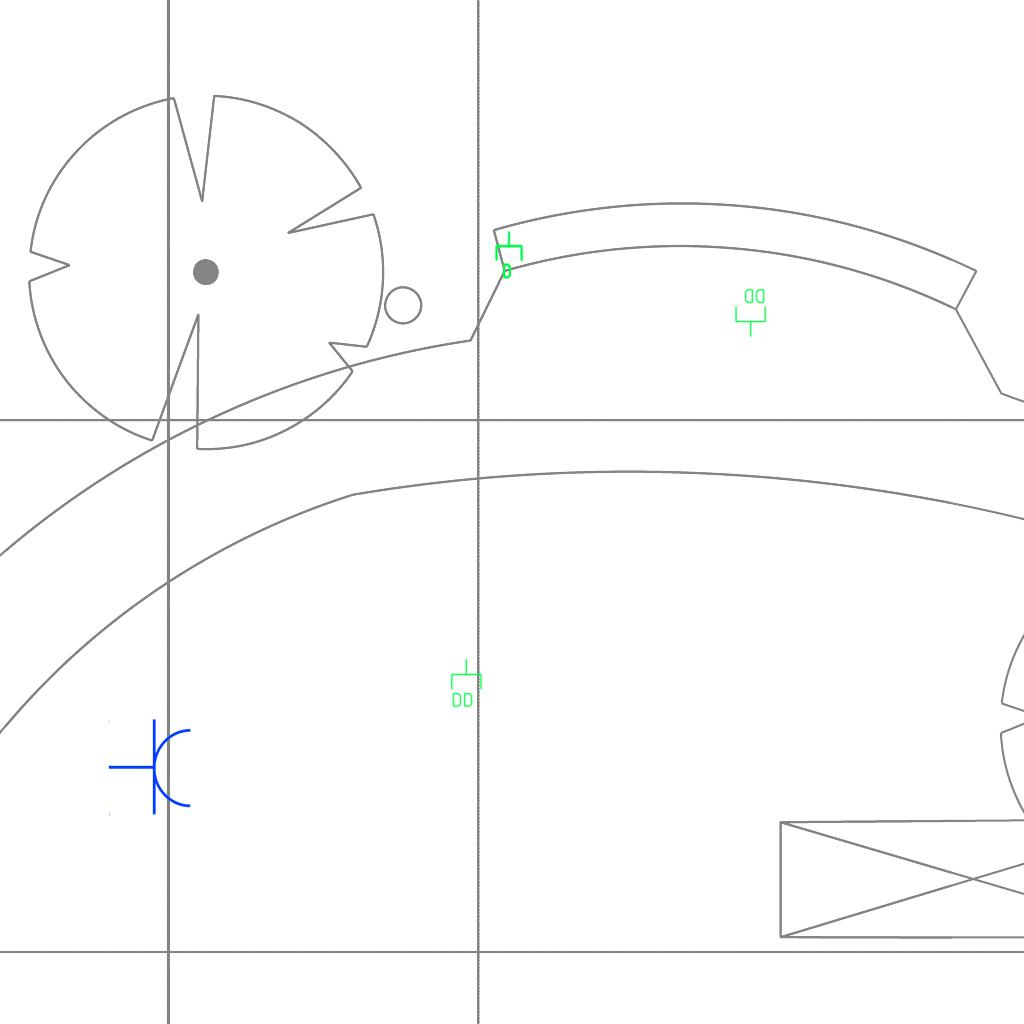Datenanschluss_einfach: (493, 230, 527, 280)
Datenanschluss_zweifach: (734, 287, 768, 338), (449, 658, 483, 709)
Schukosteckdose_einfach: (108, 718, 195, 818)
